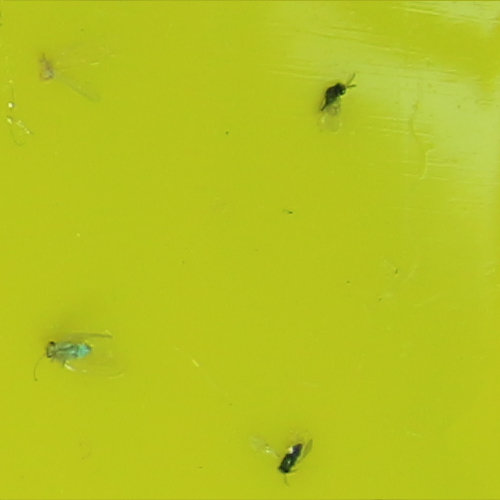Glycaspis: (43, 339, 92, 361), (36, 59, 54, 83)
Psyllaephagus: (319, 81, 347, 112), (278, 443, 304, 474)
